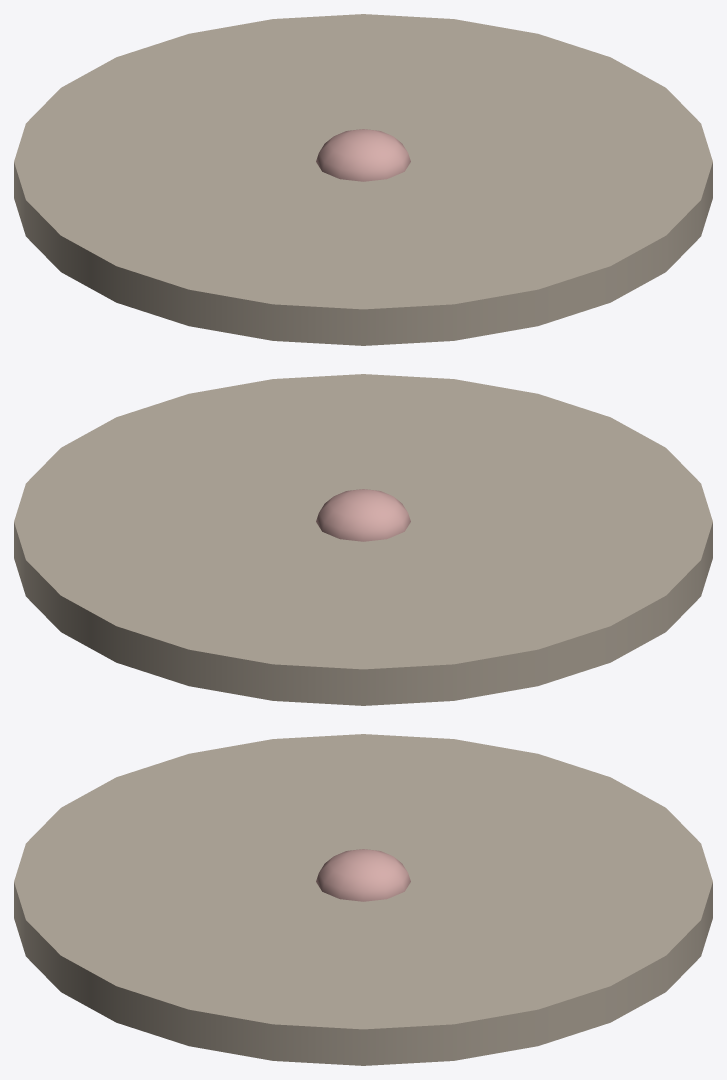
The model's file is dk_vent.gltf.
The picture shows the model from 3 angles, top to bottom: view 1: azimuth 30°, elevation 25°; view 2: azimuth 150°, elevation 25°; view 3: azimuth 270°, elevation 25°; orthographic projection.
Parts seen in each view (by area): view 1: Body; view 2: Body; view 3: Body.
Boxes of the visible parts, x1,y1,x2,y2 form: Body: (14,14,712,345); Body: (14,374,712,705); Body: (14,734,712,1065).
Size of the model in its own units: 2.6 by 0.26 by 2.6.
